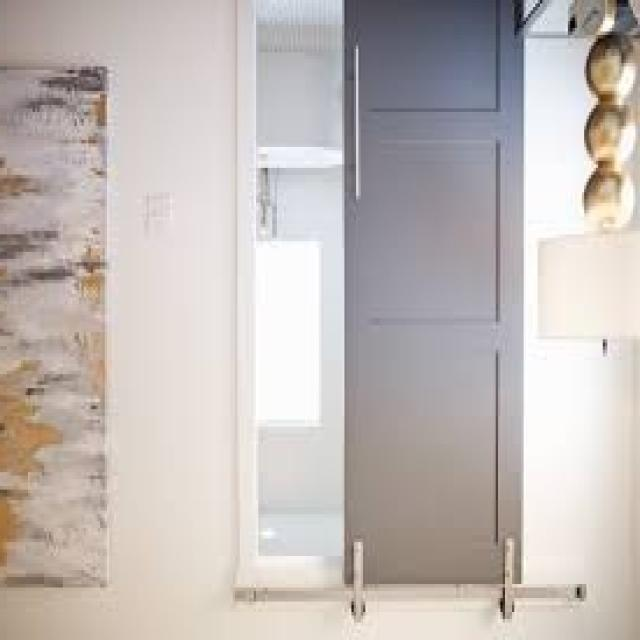door: (343, 0, 525, 588)
